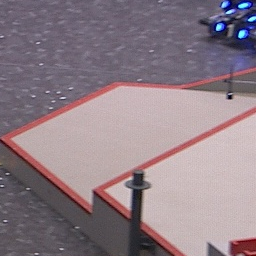Blue: (215, 20, 247, 41)
Robot: (194, 1, 256, 49)
